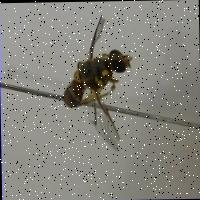Oriental-fruit-fly: (47, 12, 160, 152)
